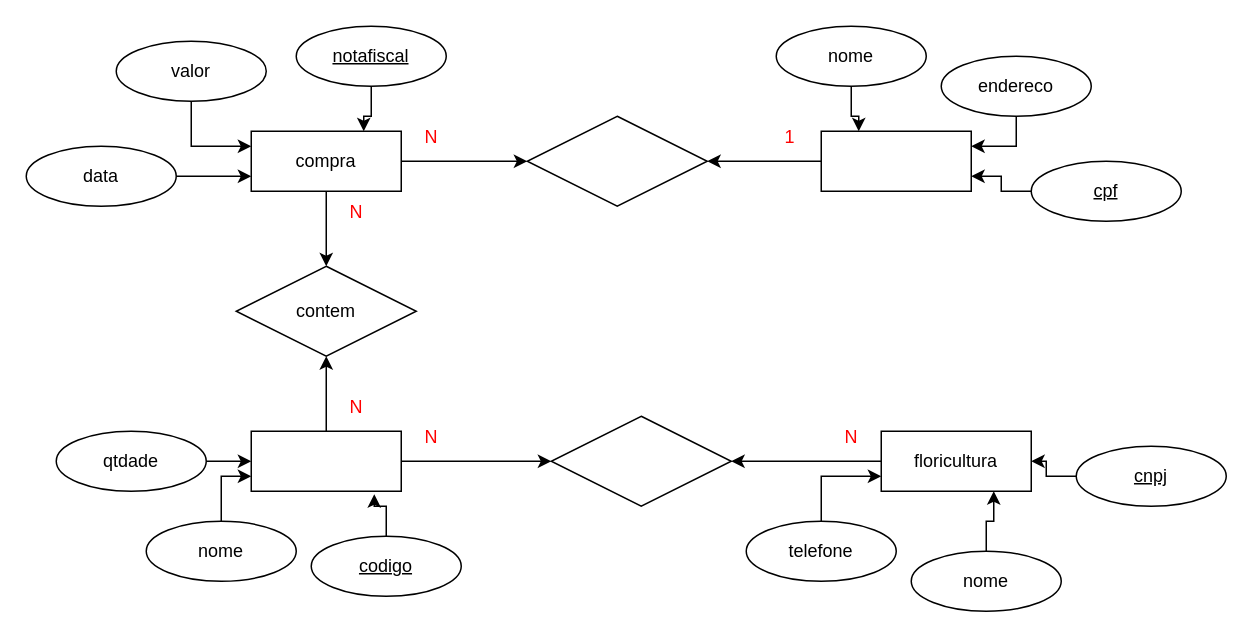
Image size: 1253x638. Some labels were removed from this diagram. The shapes that lost their labels are listed below. From the top down, each one's centre as x and y in pixels, then its label:
(x=616, y=160): solicitam
(x=895, y=160): ciente
(x=325, y=460): produto
(x=640, y=460): vendido
